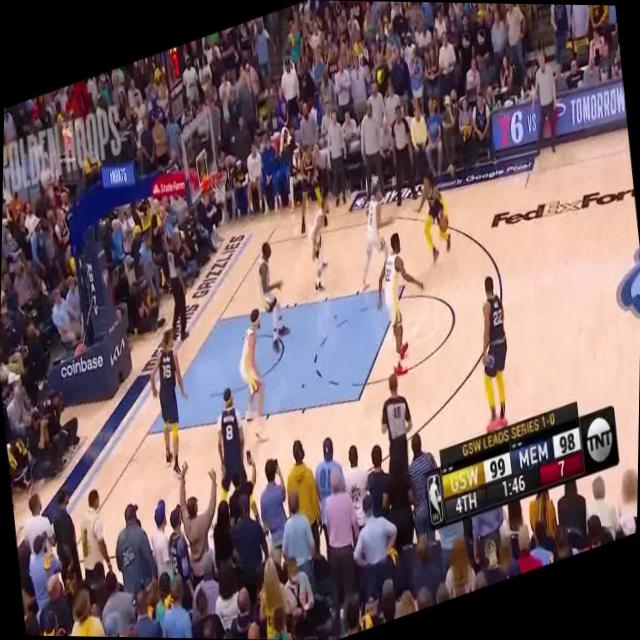ball-handler: (406, 153, 460, 274)
